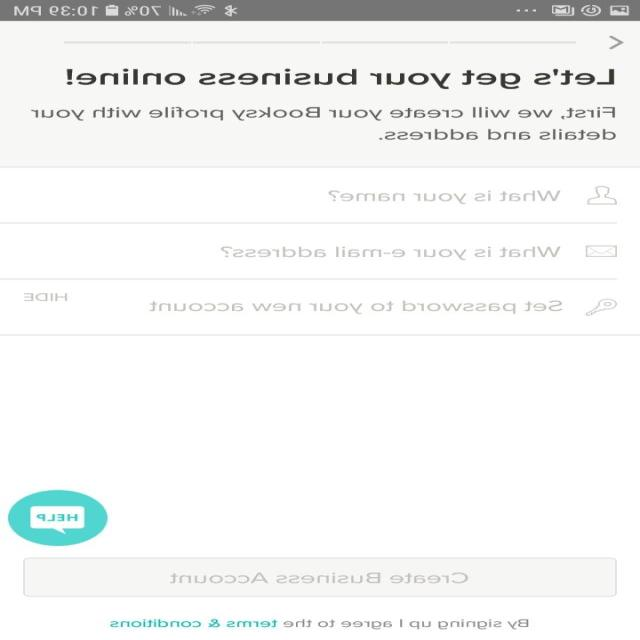Icon: (8, 490, 108, 546), (588, 186, 618, 204), (586, 245, 618, 257), (608, 36, 624, 50)
Image: (586, 298, 618, 316)
Text: (31, 106, 617, 140), (67, 68, 616, 89), (150, 300, 564, 314), (110, 618, 530, 630), (221, 246, 562, 260), (328, 190, 562, 204), (23, 292, 68, 301)
TextButton: (24, 557, 618, 597)
